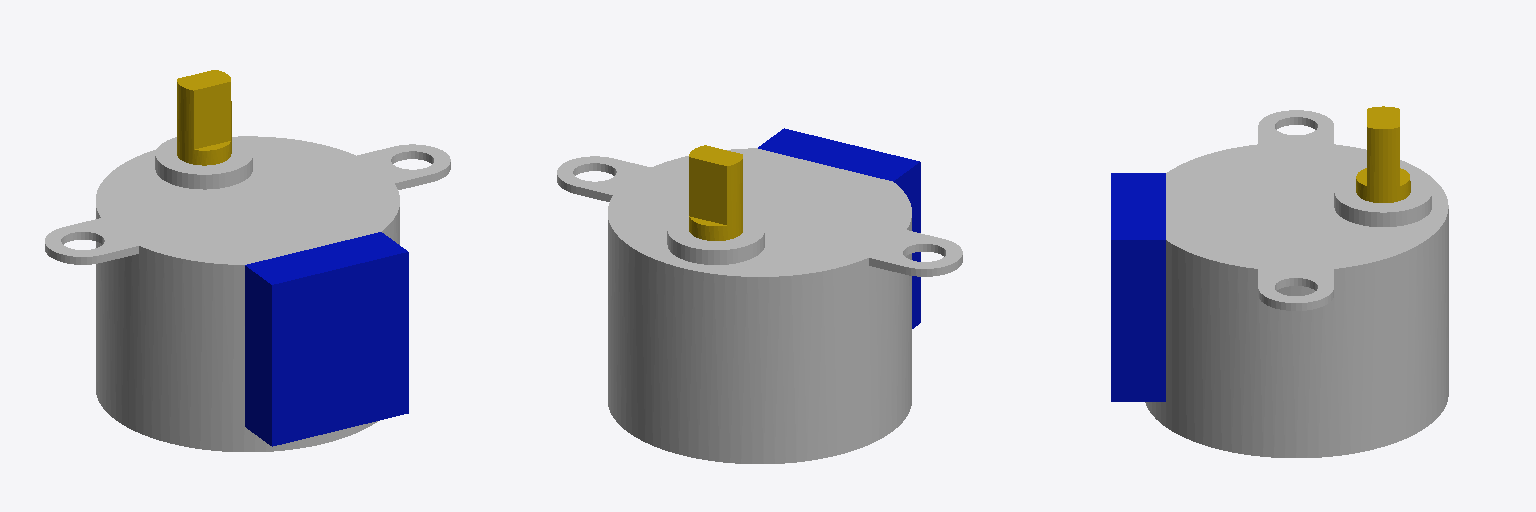
Rendered from motor28BYJ-48.obj.
3 views of the same model, side by side, from view 1: azimuth 30°, elevation 25°; view 2: azimuth 150°, elevation 25°; view 3: azimuth 270°, elevation 25° (orthographic).
Visible parts, largest first — view 1: Motor_28BYJ-48_v4; view 2: Motor_28BYJ-48_v4; view 3: Motor_28BYJ-48_v4.
Boxes of the visible parts, <box> form: Motor_28BYJ-48_v4: <box>45,70,450,451</box>; Motor_28BYJ-48_v4: <box>557,128,962,463</box>; Motor_28BYJ-48_v4: <box>1111,106,1448,457</box>.
Bounding box in the file's own units: 0.42 × 0.28 × 0.31.